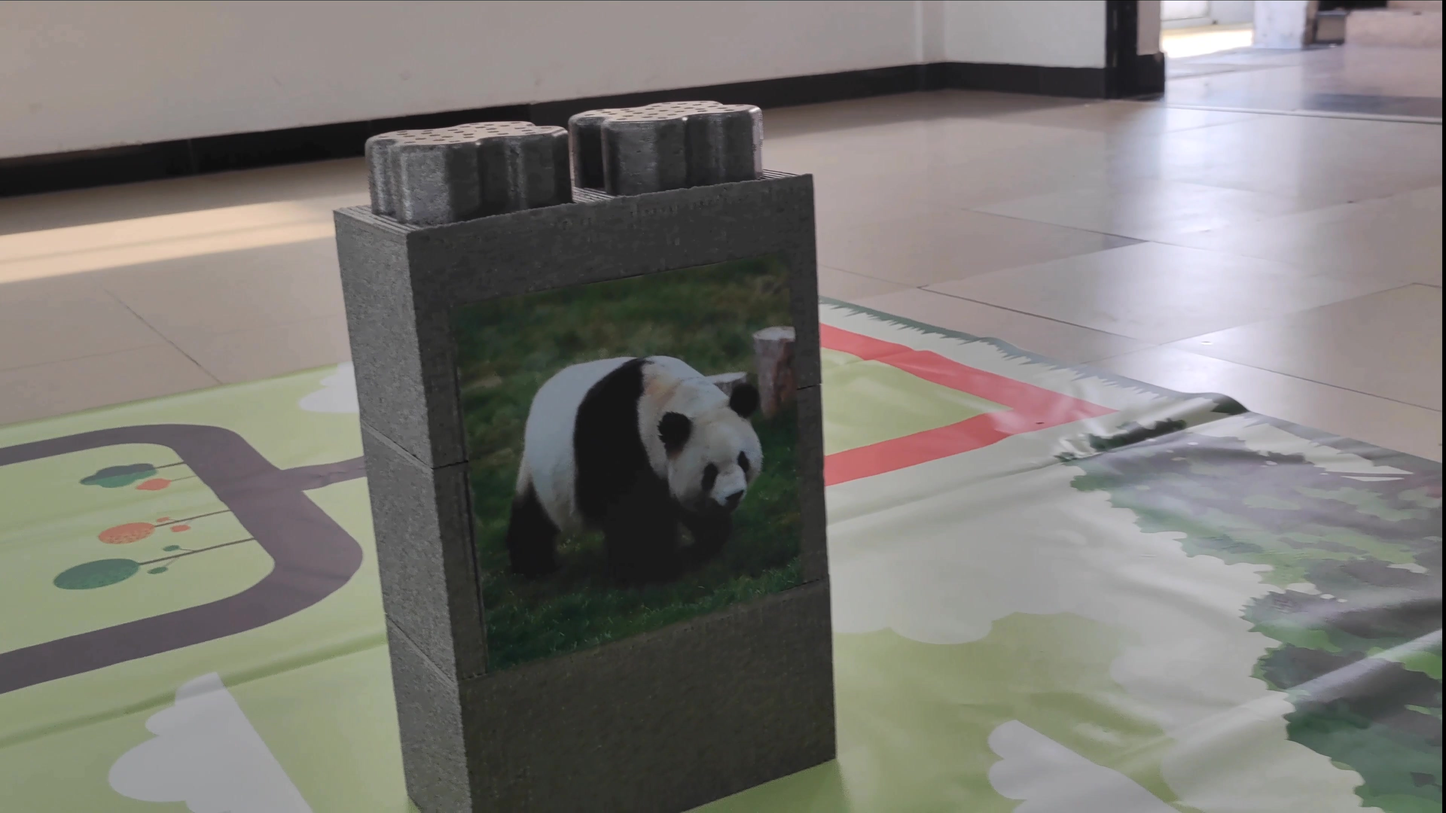panda: (471, 314, 774, 588)
